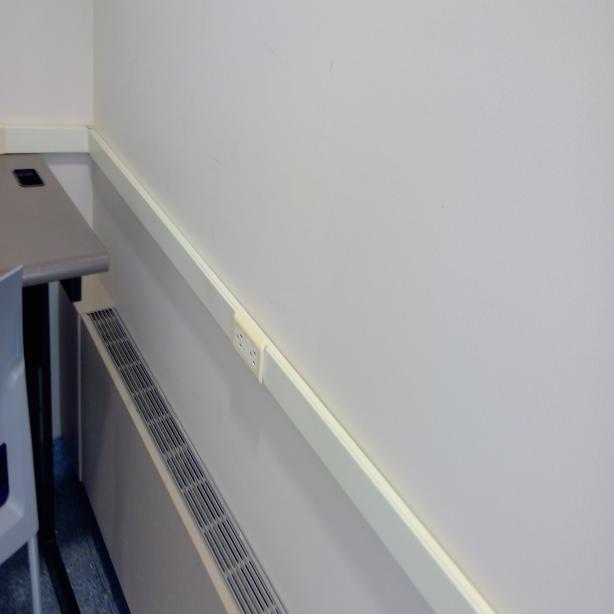typeb: (233, 327, 245, 350), (249, 344, 258, 370)
